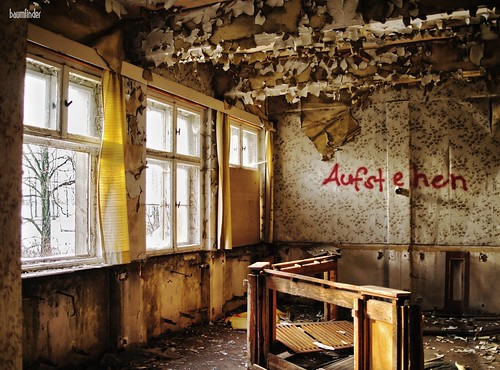graffiti: (326, 155, 474, 210)
trash: (196, 257, 500, 370)
window: (19, 66, 106, 265), (142, 94, 202, 250)
